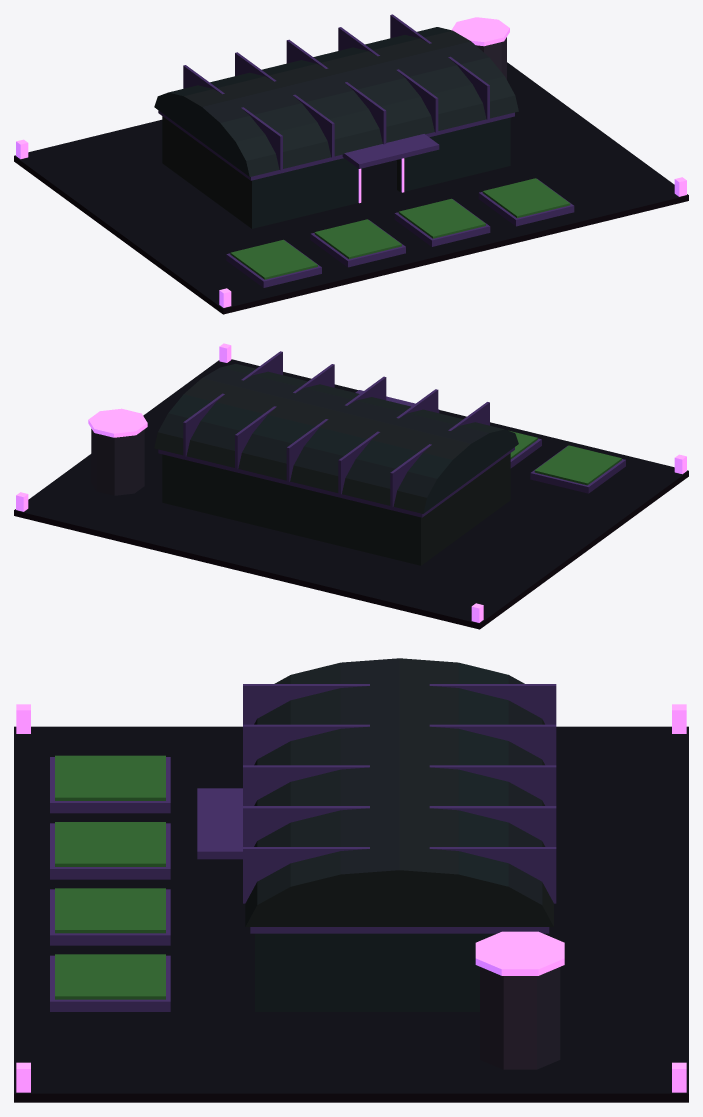
The model's file is shaddai_dist_void_farm_v01.glb.
The picture shows the model from 3 angles, top to bottom: view 1: azimuth 30°, elevation 25°; view 2: azimuth 150°, elevation 25°; view 3: azimuth 270°, elevation 25°; orthographic projection. The views are drawn at different scales.
Parts seen in each view (by area): view 1: shaddai_dist_void_farm; view 2: shaddai_dist_void_farm; view 3: shaddai_dist_void_farm.
Boxes of the visible parts, bbox=[...] form: shaddai_dist_void_farm: bbox=[14, 14, 688, 314]; shaddai_dist_void_farm: bbox=[14, 343, 688, 629]; shaddai_dist_void_farm: bbox=[14, 658, 688, 1102].
Size of the model in its own units: 36 by 7.1 by 28.
